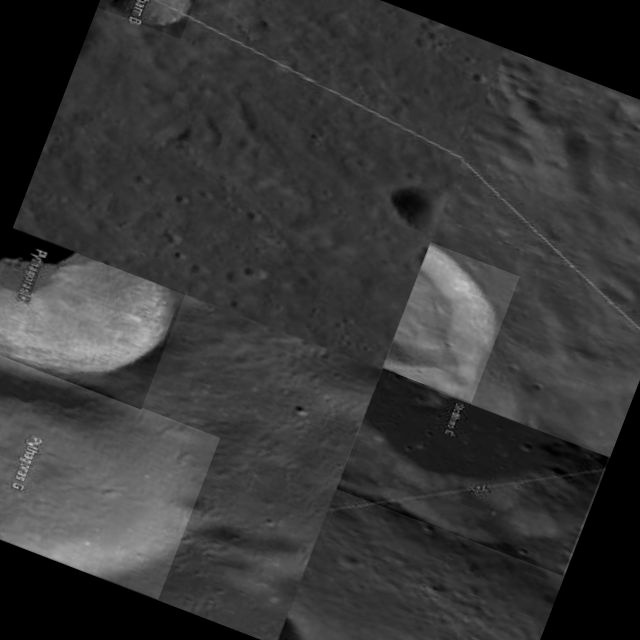crater: (0, 341, 220, 599), (336, 370, 608, 576), (0, 228, 185, 410), (382, 242, 520, 403), (379, 172, 448, 238), (97, 0, 201, 39)
